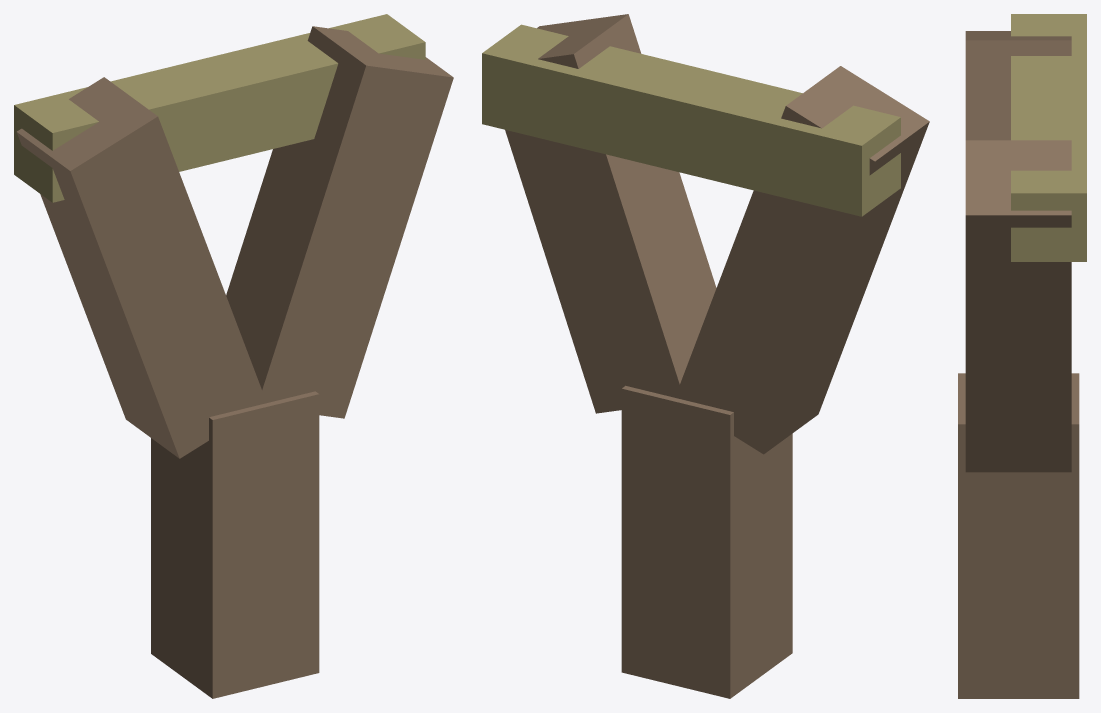
File: sling.glb
The picture shows the model from 3 angles, left to right: view 1: azimuth 30°, elevation 25°; view 2: azimuth 150°, elevation 25°; view 3: azimuth 270°, elevation 25°; orthographic projection. The views are drawn at different scales.
Visible parts, largest first — view 1: ProngL, ProngR, Grip, Band; view 2: Grip, Band, ProngL, ProngR; view 3: ProngL, Grip, Band, ProngR.
Part boxes in pixels (<box>): ProngL: <box>226,26,453,418</box>; ProngR: <box>16,77,266,458</box>; Grip: <box>151,391,319,698</box>; Band: <box>14,14,425,202</box>; Grip: <box>621,385,792,698</box>; Band: <box>482,24,900,216</box>; ProngL: <box>505,14,716,413</box>; ProngR: <box>675,66,929,454</box>; ProngL: <box>965,140,1071,472</box>; Grip: <box>958,373,1079,698</box>; Band: <box>1011,14,1086,261</box>; ProngR: <box>965,31,1071,140</box>.
Size of the model in its own units: 0.2879 by 0.4247 by 0.085.
